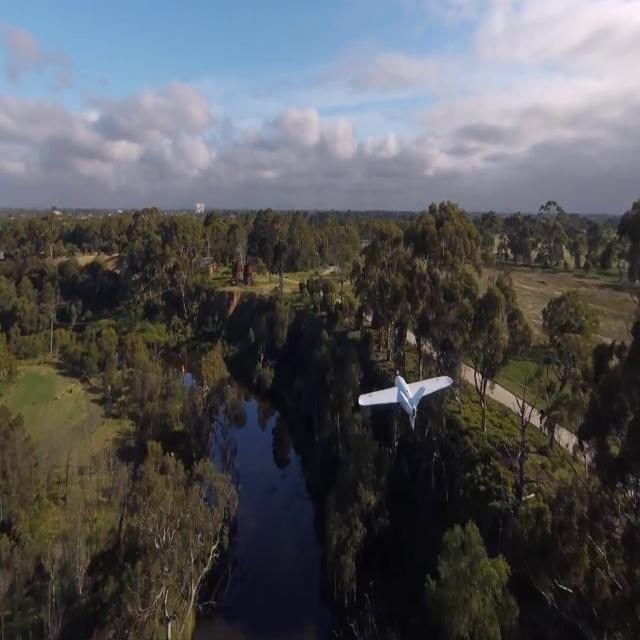iha: (386, 371, 420, 432)
